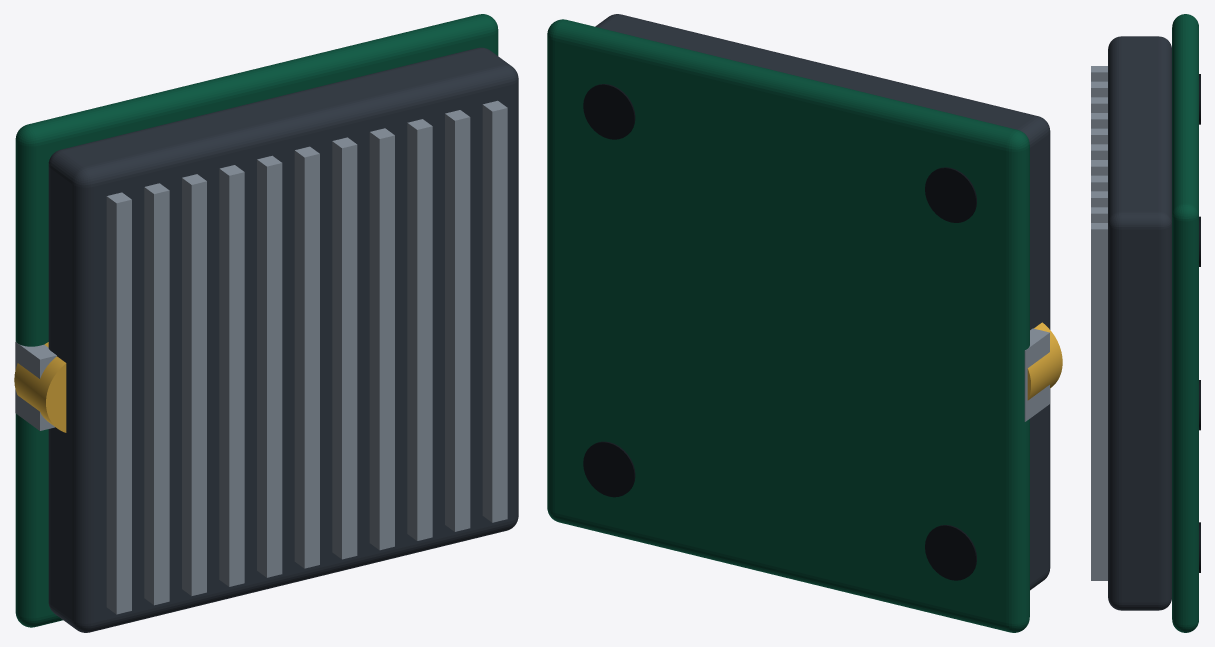
Rendered from speedybee-tx800.glb.
3 views of the same model, side by side, from view 1: azimuth 30°, elevation 25°; view 2: azimuth 150°, elevation 25°; view 3: azimuth 270°, elevation 25° (orthographic). The views are drawn at different scales.
Parts seen in each view (by area): view 1: SpeedyBee_TX800_spec_model; view 2: SpeedyBee_TX800_spec_model; view 3: SpeedyBee_TX800_spec_model.
Part boxes in pixels (x1,y1,x2,y2): SpeedyBee_TX800_spec_model: (14, 14, 518, 632); SpeedyBee_TX800_spec_model: (547, 14, 1062, 632); SpeedyBee_TX800_spec_model: (1091, 14, 1200, 632).
Size of the model in its own units: 0.0282 by 0.028 by 0.0065.
